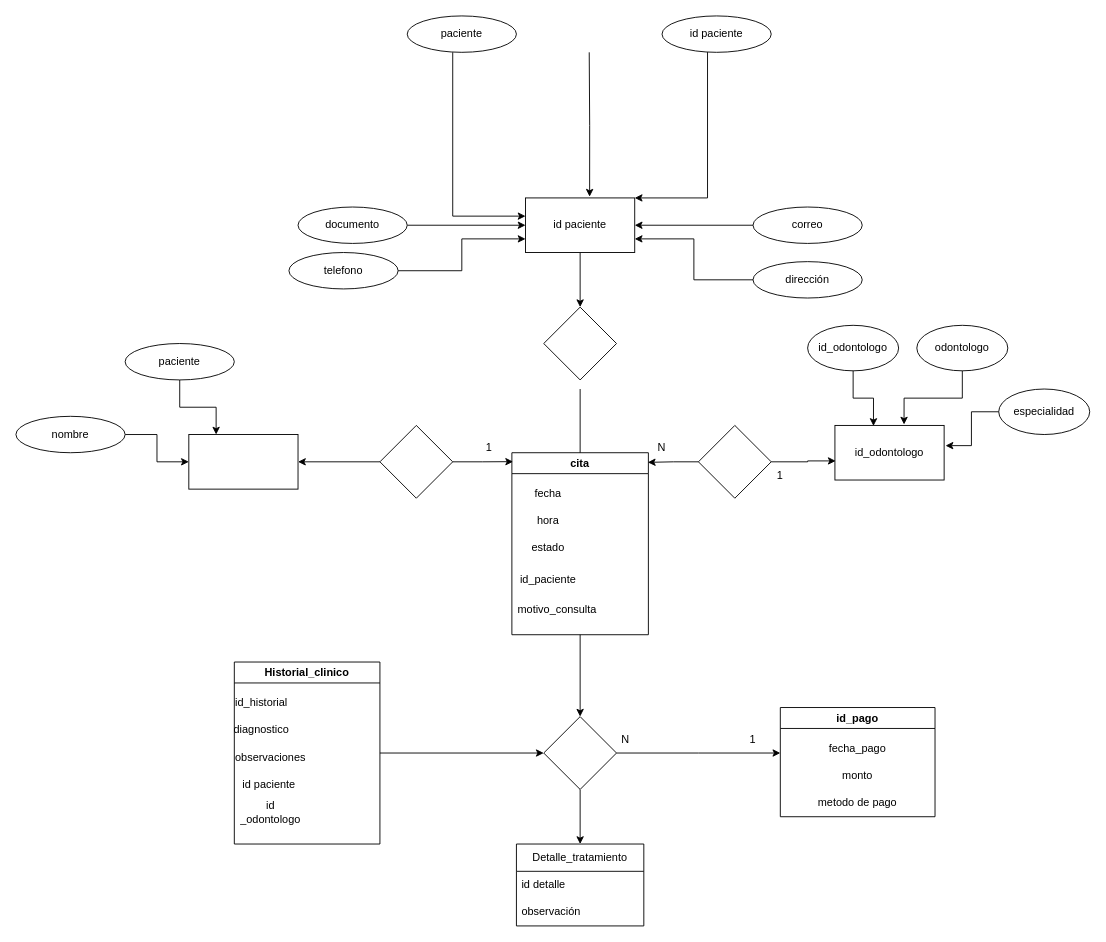
Some shapes in this 1106 by 942 pixel diagram are drawn without their labels. The centre of each missing label's shape, as x and y in pixels:
agenda: point (580, 343)
Atiende: point (734, 461)
Genera: point (416, 461)
id_cita: point (243, 461)
incluye: point (580, 752)
